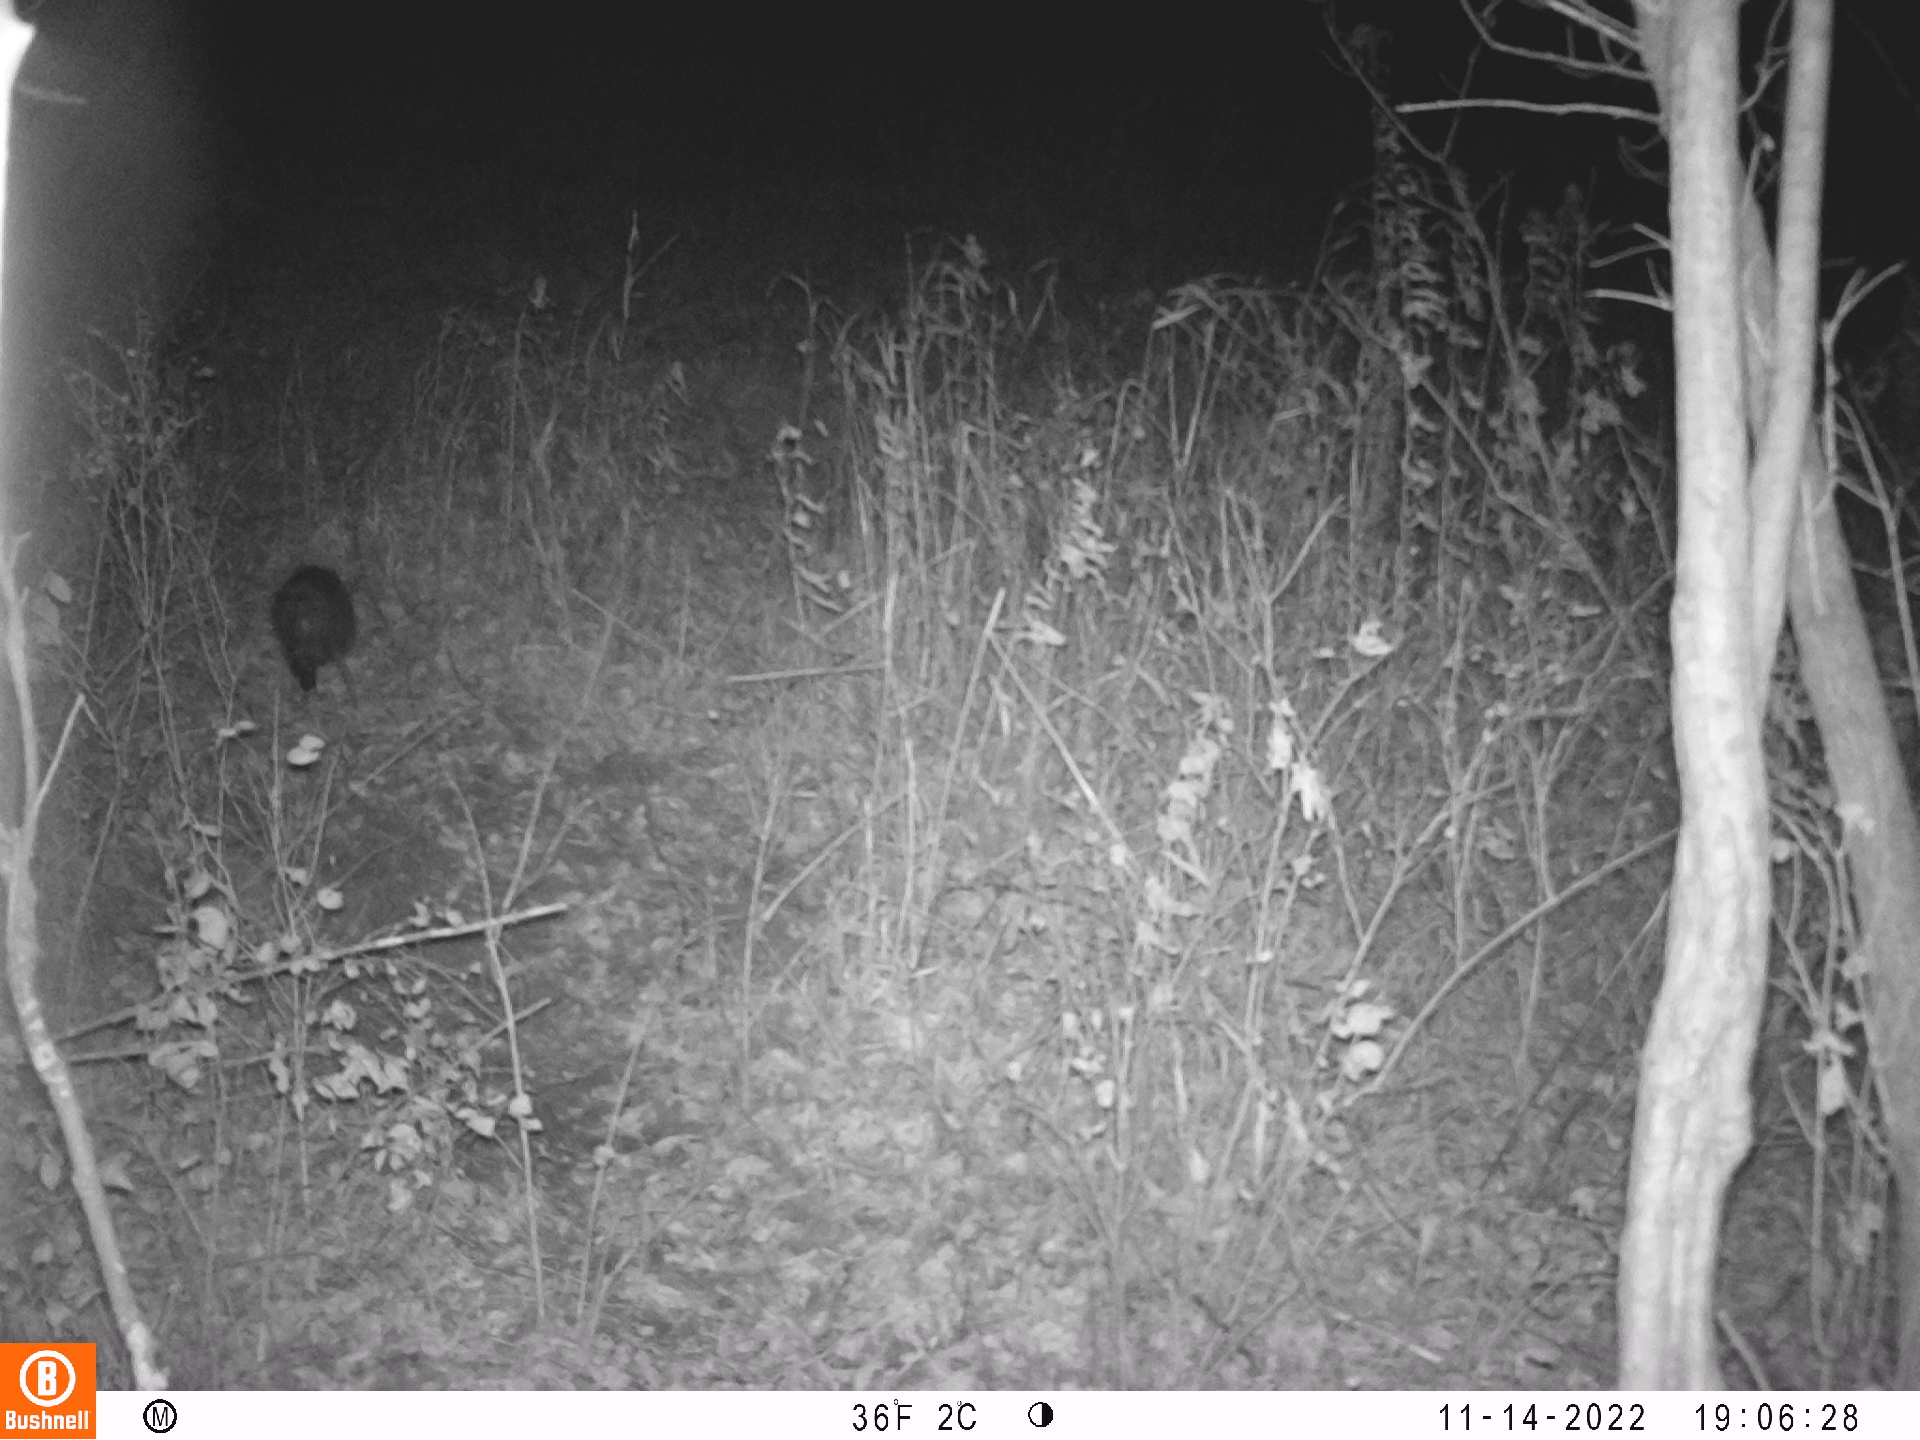Possum: (268, 560, 358, 697)
